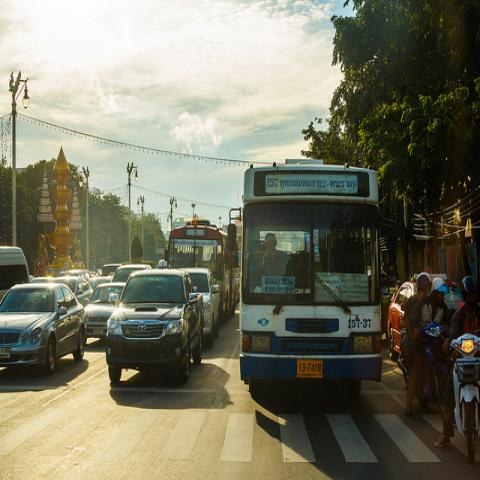bus: (238, 170, 382, 406), (162, 220, 241, 320)
car: (106, 268, 206, 384), (0, 282, 88, 376), (387, 271, 460, 362), (180, 269, 221, 348), (84, 282, 126, 340), (0, 244, 31, 302), (52, 275, 93, 306), (112, 264, 153, 283), (58, 269, 92, 281), (88, 276, 112, 290), (101, 263, 122, 277)
motorcycle: (399, 324, 446, 419), (452, 333, 479, 465)
